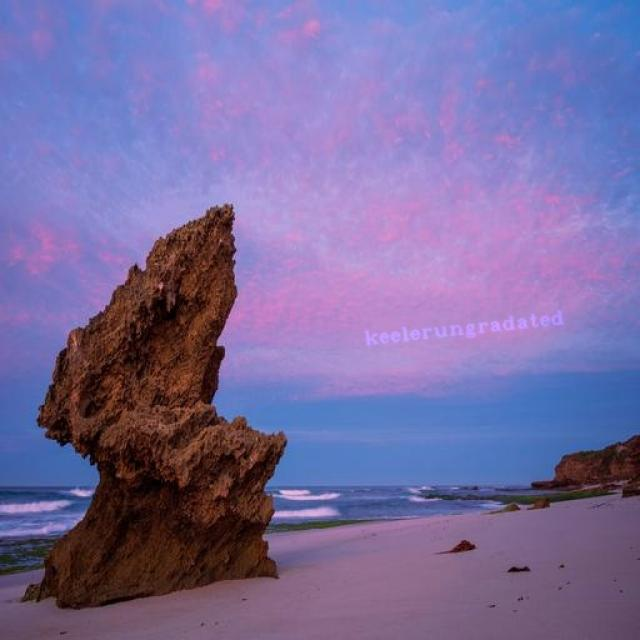watermark: (358, 308, 566, 347)
